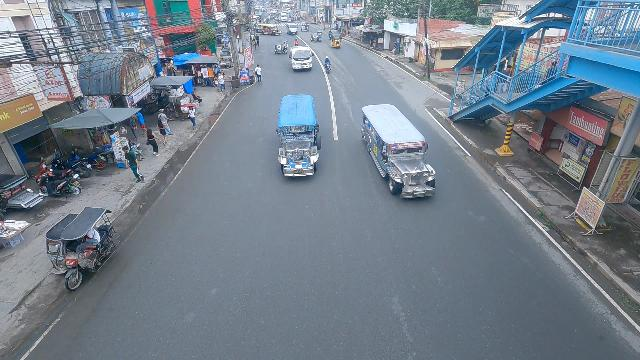jeepney: (360, 103, 437, 202), (273, 92, 323, 182), (256, 23, 281, 36)
motorcycle: (324, 55, 331, 74), (328, 30, 333, 42)
truck: (288, 45, 313, 73)
van: (287, 23, 298, 35)
